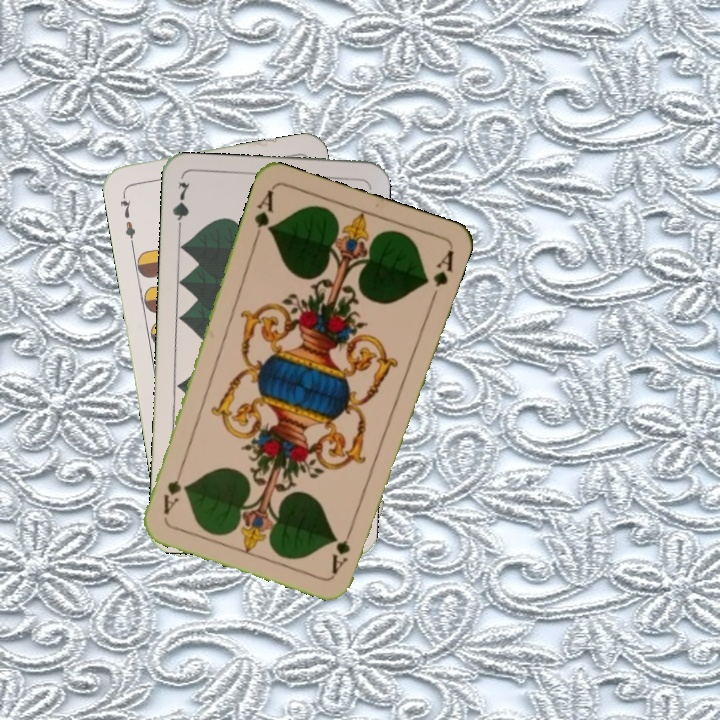E7: (116, 187, 138, 247)
G7: (168, 177, 193, 236)
GA: (327, 519, 357, 576), (250, 185, 277, 243)
